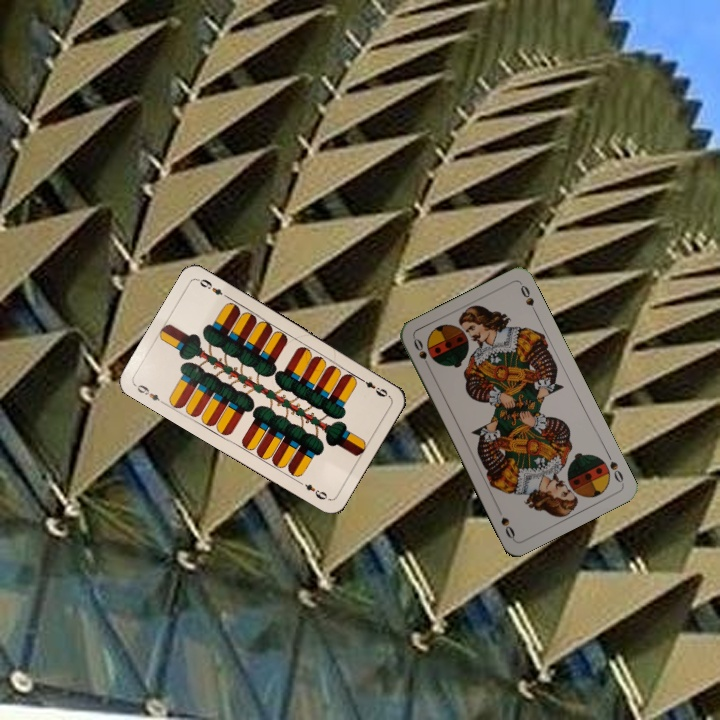E9: (355, 373, 392, 400), (131, 380, 168, 407)
SO: (409, 334, 433, 373), (602, 448, 626, 485)
